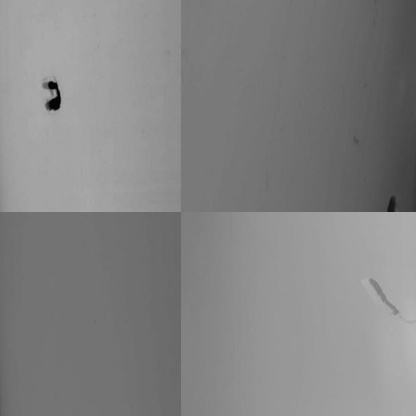kongdong: (35, 77, 70, 113), (384, 193, 400, 211)
sunshang: (360, 276, 402, 320)
